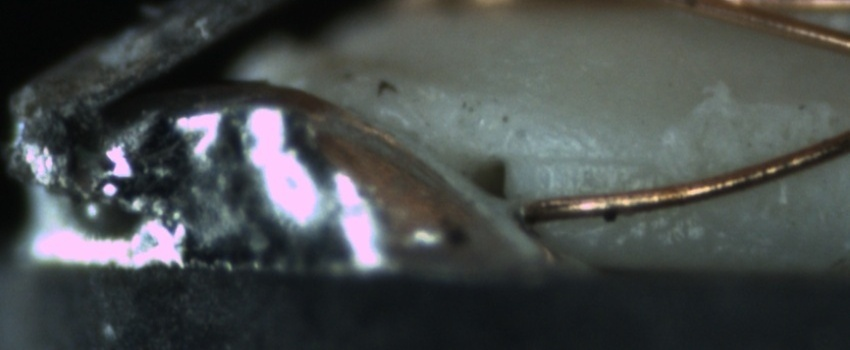DL: (527, 128, 659, 189)
